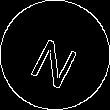N_NE: (26, 23, 84, 87)
